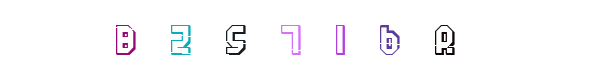1: (267, 0, 347, 80)
6: (303, 0, 383, 80)
7: (259, 0, 339, 80)
B: (86, 0, 166, 80)
R: (340, 0, 420, 80)
S: (257, 0, 337, 80)
Z: (141, 0, 221, 80)
